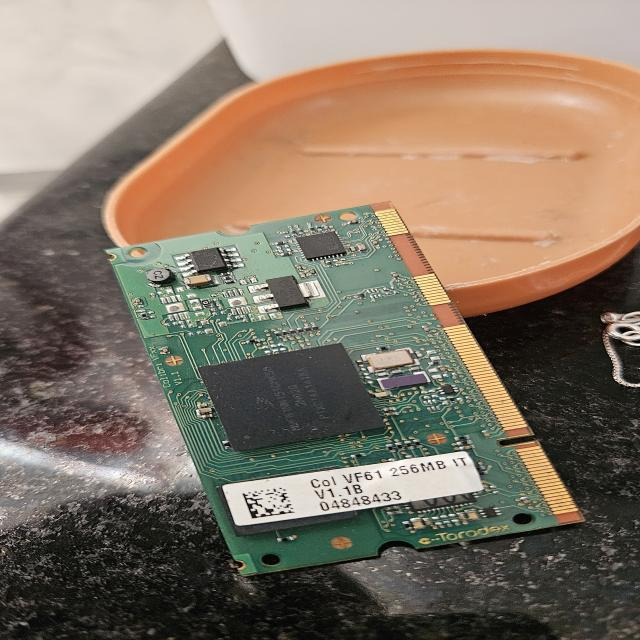som: (81, 199, 597, 576)
